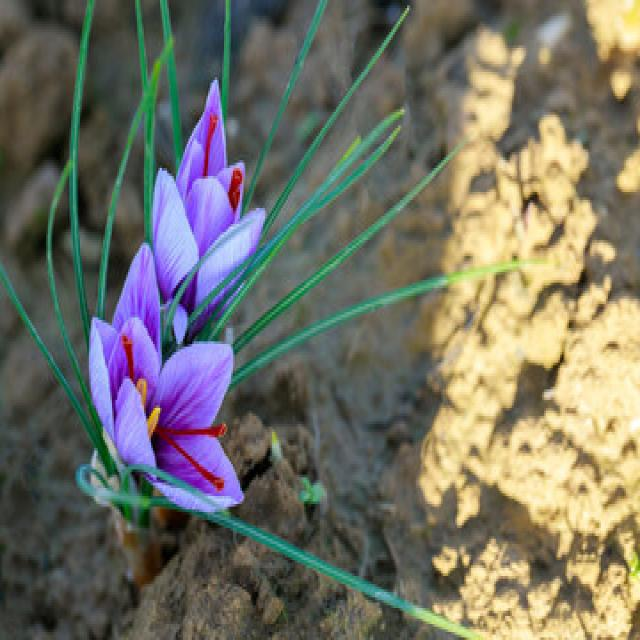saffron open: (90, 249, 241, 508), (152, 81, 265, 311)
